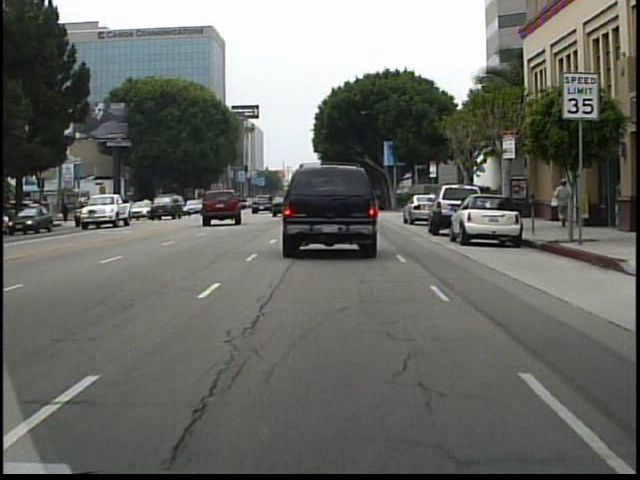person: (550, 175, 572, 234), (463, 179, 481, 219), (60, 199, 74, 226)
